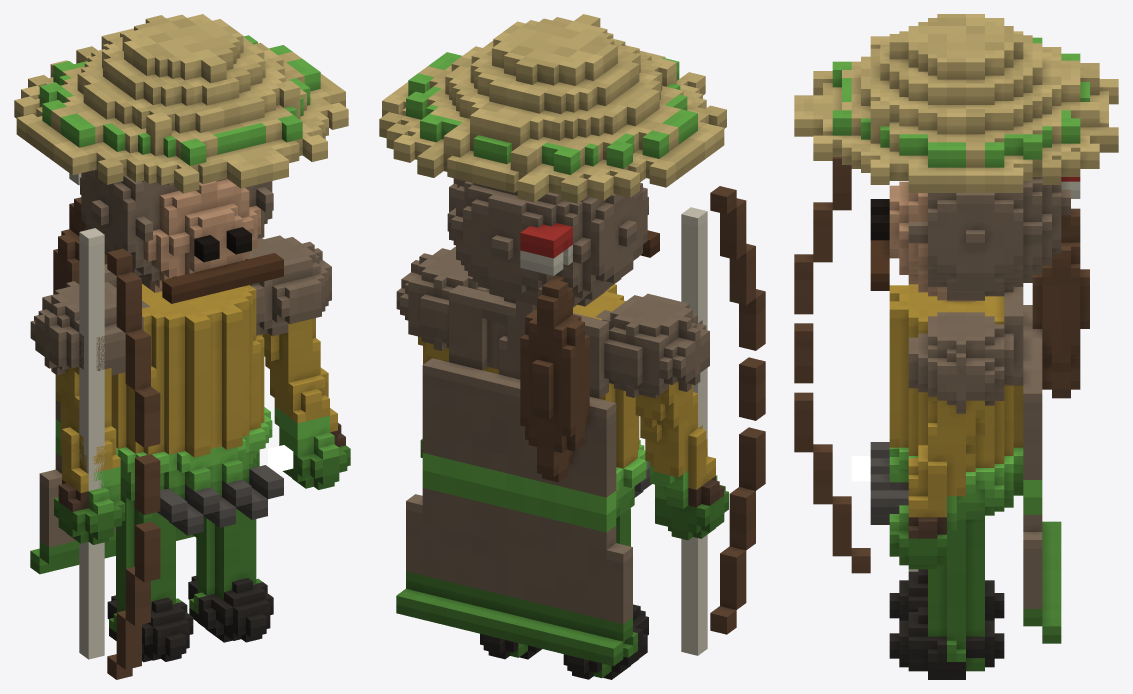
Rendered from u_trappeur__moine.glb.
3 renders of one model, left to right at view 1: azimuth 30°, elevation 25°; view 2: azimuth 150°, elevation 25°; view 3: azimuth 270°, elevation 25°, orthographic. The views are drawn at different scales.
Parts seen in each view (by area): view 1: trappeur_body, trappeur_weapon, trappeur_glow; view 2: trappeur_body, trappeur_weapon; view 3: trappeur_body, trappeur_weapon, trappeur_glow.
Boxes of the visible parts, <box> form: trappeur_body: <box>14,14,350,662</box>; trappeur_weapon: <box>79,228,160,679</box>; trappeur_glow: <box>268,445,293,472</box>; trappeur_body: <box>379,14,728,679</box>; trappeur_weapon: <box>681,186,765,655</box>; trappeur_body: <box>794,14,1118,679</box>; trappeur_weapon: <box>794,157,918,573</box>; trappeur_glow: <box>851,456,870,481</box>.
Bounding box in the file's own units: 0.85 × 1.77 × 0.85.
